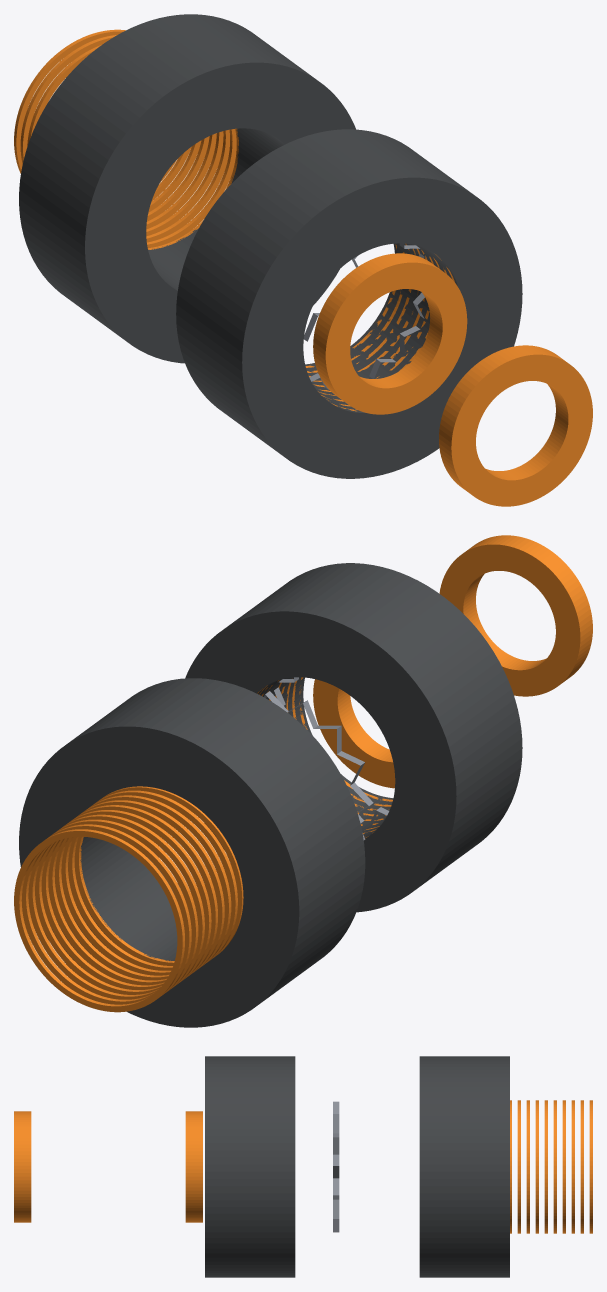
Rendered from zwift-cog-v2.glb.
The picture shows the model from 3 angles, top to bottom: view 1: azimuth 30°, elevation 25°; view 2: azimuth 150°, elevation 25°; view 3: azimuth 270°, elevation 25°; orthographic projection. The views are drawn at different scales.
Parts seen in each view (by area): view 1: zwift-cog-v2_HOUSING, zwift-cog-v2_HOUSING_EXPLODED, zwift-cog-v2_LOCKRING, zwift-cog-v2_LOCKRING_EXPLODED, zwift-cog-v2_ALIGN_10_EXPLODED, zwift-cog-v2_ALIGN_9_EXPLODED, zwift-cog-v2_ALIGN_8_EXPLODED, zwift-cog-v2_ALIGN_2_EXPLODED, zwift-cog-v2_ALIGN_3_EXPLODED, zwift-cog-v2_ALIGN_4_EXPLODED, zwift-cog-v2_ALIGN_5_EXPLODED, zwift-cog-v2_ALIGN_6_EXPLODED (+2 smaller); view 2: zwift-cog-v2_HOUSING_EXPLODED, zwift-cog-v2_HOUSING, zwift-cog-v2_LOCKRING_EXPLODED, zwift-cog-v2_ALIGN_10_EXPLODED, zwift-cog-v2_LOCKRING, zwift-cog-v2_ALIGN_9_EXPLODED, zwift-cog-v2_ALIGN_8_EXPLODED, zwift-cog-v2_ALIGN_7_EXPLODED, zwift-cog-v2_ALIGN_6_EXPLODED, zwift-cog-v2_ALIGN_5_EXPLODED, zwift-cog-v2_ALIGN_4_EXPLODED, zwift-cog-v2_ALIGN_3_EXPLODED (+3 smaller); view 3: zwift-cog-v2_HOUSING, zwift-cog-v2_HOUSING_EXPLODED, zwift-cog-v2_LOCKRING, zwift-cog-v2_LOCKRING_EXPLODED, zwift-cog-v2_SPROCKET_EXPLODED, zwift-cog-v2_ALIGN_10_EXPLODED, zwift-cog-v2_ALIGN_2_EXPLODED, zwift-cog-v2_ALIGN_3_EXPLODED, zwift-cog-v2_ALIGN_4_EXPLODED, zwift-cog-v2_ALIGN_5_EXPLODED, zwift-cog-v2_ALIGN_6_EXPLODED, zwift-cog-v2_ALIGN_7_EXPLODED (+2 smaller).
Boxes of the visible parts, bbox=[...] form: zwift-cog-v2_HOUSING: bbox=[176, 129, 522, 478]; zwift-cog-v2_HOUSING_EXPLODED: bbox=[19, 14, 355, 363]; zwift-cog-v2_LOCKRING: bbox=[313, 253, 467, 414]; zwift-cog-v2_LOCKRING_EXPLODED: bbox=[439, 345, 592, 506]; zwift-cog-v2_ALIGN_10_EXPLODED: bbox=[14, 29, 125, 173]; zwift-cog-v2_ALIGN_9_EXPLODED: bbox=[20, 35, 176, 183]; zwift-cog-v2_ALIGN_8_EXPLODED: bbox=[27, 45, 191, 200]; zwift-cog-v2_ALIGN_2_EXPLODED: bbox=[147, 129, 236, 248]; zwift-cog-v2_ALIGN_3_EXPLODED: bbox=[146, 129, 229, 242]; zwift-cog-v2_ALIGN_4_EXPLODED: bbox=[146, 131, 223, 236]; zwift-cog-v2_ALIGN_5_EXPLODED: bbox=[146, 133, 216, 229]; zwift-cog-v2_ALIGN_6_EXPLODED: bbox=[147, 136, 209, 221]; zwift-cog-v2_HOUSING_EXPLODED: bbox=[19, 678, 365, 1027]; zwift-cog-v2_HOUSING: bbox=[185, 563, 522, 912]; zwift-cog-v2_LOCKRING_EXPLODED: bbox=[439, 535, 592, 696]; zwift-cog-v2_ALIGN_10_EXPLODED: bbox=[14, 829, 184, 1012]; zwift-cog-v2_LOCKRING: bbox=[313, 679, 395, 788]; zwift-cog-v2_ALIGN_9_EXPLODED: bbox=[21, 824, 191, 1004]; zwift-cog-v2_ALIGN_8_EXPLODED: bbox=[28, 819, 198, 999]; zwift-cog-v2_ALIGN_7_EXPLODED: bbox=[35, 814, 204, 994]; zwift-cog-v2_ALIGN_6_EXPLODED: bbox=[41, 810, 211, 989]; zwift-cog-v2_ALIGN_5_EXPLODED: bbox=[48, 805, 217, 985]; zwift-cog-v2_ALIGN_4_EXPLODED: bbox=[54, 800, 224, 980]; zwift-cog-v2_ALIGN_3_EXPLODED: bbox=[61, 795, 231, 975]; zwift-cog-v2_HOUSING: bbox=[205, 1056, 295, 1277]; zwift-cog-v2_HOUSING_EXPLODED: bbox=[419, 1056, 509, 1277]; zwift-cog-v2_LOCKRING: bbox=[185, 1111, 202, 1222]; zwift-cog-v2_LOCKRING_EXPLODED: bbox=[14, 1111, 31, 1222]; zwift-cog-v2_SPROCKET_EXPLODED: bbox=[333, 1101, 339, 1232]; zwift-cog-v2_ALIGN_10_EXPLODED: bbox=[589, 1100, 592, 1233]; zwift-cog-v2_ALIGN_2_EXPLODED: bbox=[517, 1100, 520, 1233]; zwift-cog-v2_ALIGN_3_EXPLODED: bbox=[526, 1100, 529, 1233]; zwift-cog-v2_ALIGN_4_EXPLODED: bbox=[535, 1100, 538, 1233]; zwift-cog-v2_ALIGN_5_EXPLODED: bbox=[544, 1100, 547, 1233]; zwift-cog-v2_ALIGN_6_EXPLODED: bbox=[553, 1100, 556, 1233]; zwift-cog-v2_ALIGN_7_EXPLODED: bbox=[562, 1100, 565, 1233].
Bounding box in the file's own units: 0.103 × 0.103 × 0.2696.
